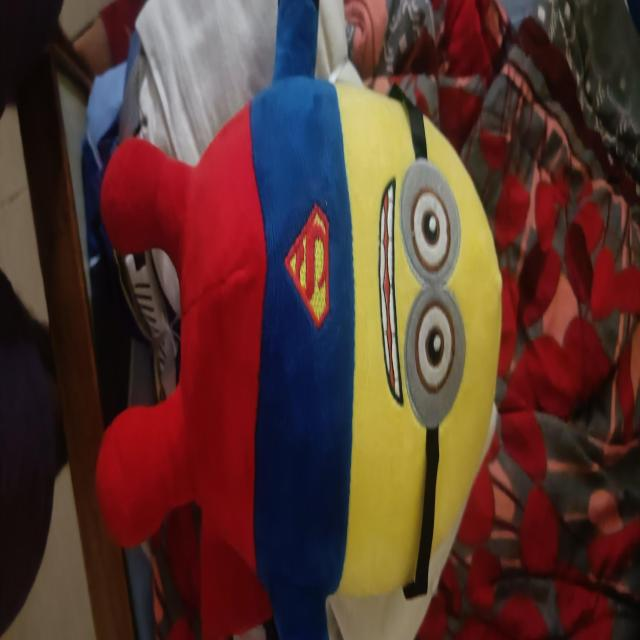minion: (99, 0, 503, 640)
